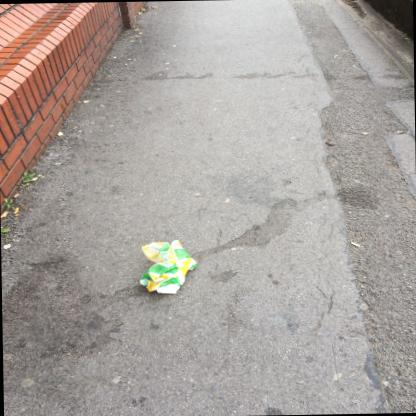Wrapping paper: (140, 239, 197, 293)
